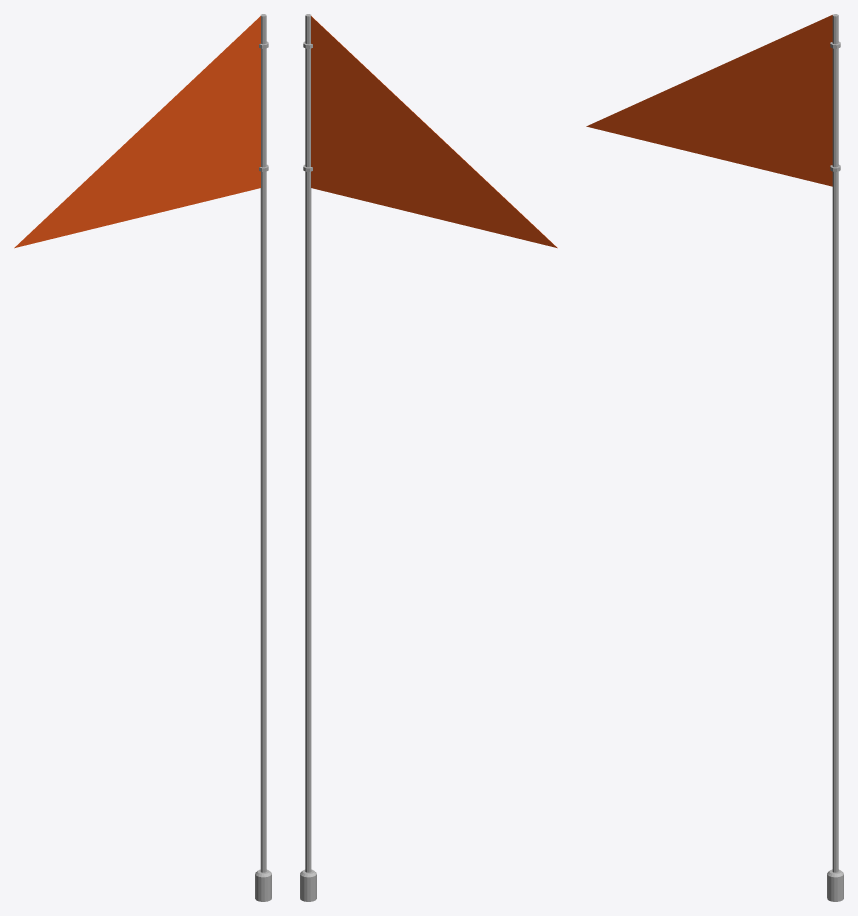
The model's file is flag.visual.glb.
The picture shows the model from 3 angles, left to right: view 1: azimuth 30°, elevation 25°; view 2: azimuth 150°, elevation 25°; view 3: azimuth 330°, elevation 25°; orthographic projection.
Parts seen in each view (by area): view 1: Flag; view 2: Flag; view 3: Flag.
Boxes of the visible parts, box(x1,y1,x2,y2) form: Flag: box(14, 14, 271, 901); Flag: box(300, 14, 557, 901); Flag: box(586, 14, 843, 901).
Bounding box in the file's own units: 0.3054 × 1 × 0.0174.
1 material, 1 textured.
